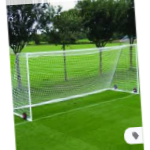goals: (13, 42, 140, 120)
